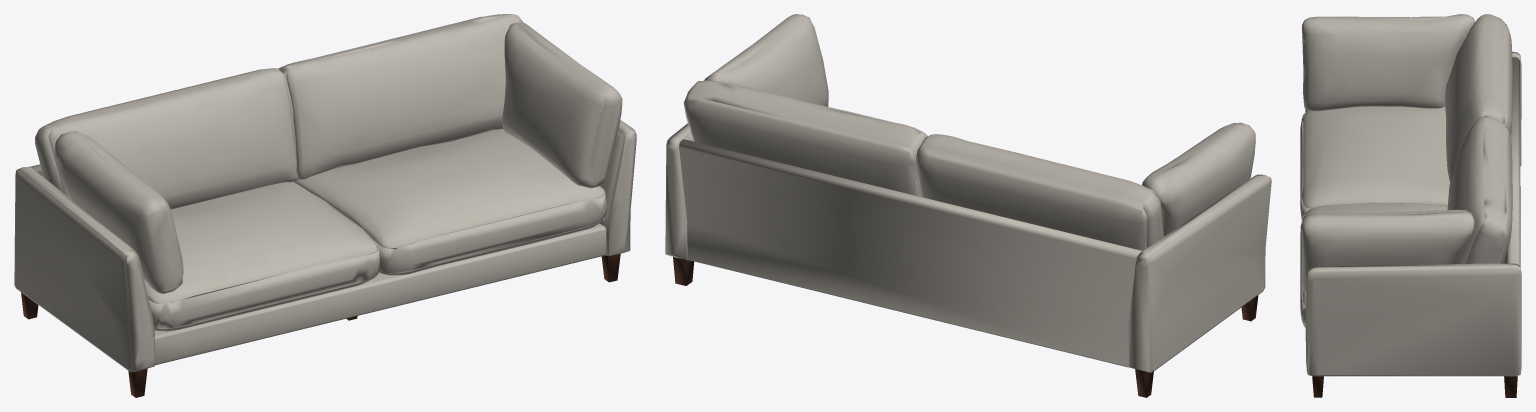
File: abo-B072M1WJF2.glb
The picture shows the model from 3 angles, left to right: view 1: azimuth 30°, elevation 25°; view 2: azimuth 150°, elevation 25°; view 3: azimuth 270°, elevation 25°; orthographic projection. The views are drawn at different scales.
Parts seen in each view (by area): view 1: RootNode; view 2: RootNode; view 3: RootNode.
Part boxes in pixels (x1,y1,x2,y2): RootNode: (14, 14, 636, 397); RootNode: (665, 14, 1271, 397); RootNode: (1300, 14, 1521, 397).
Size of the model in its own units: 2.3 by 0.8626 by 0.9562.
Materials: 1 (1 with a texture image).
